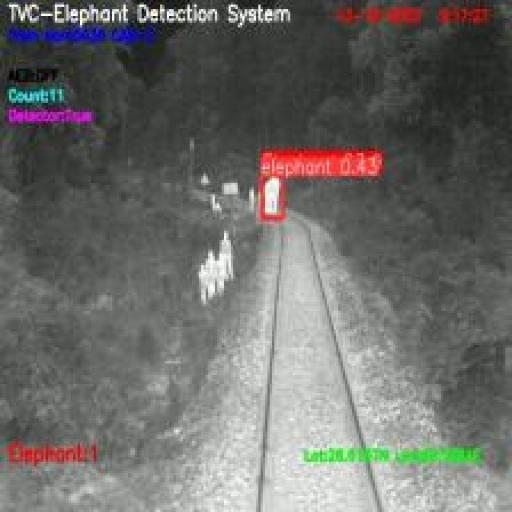Elephant: (261, 176, 282, 219)
